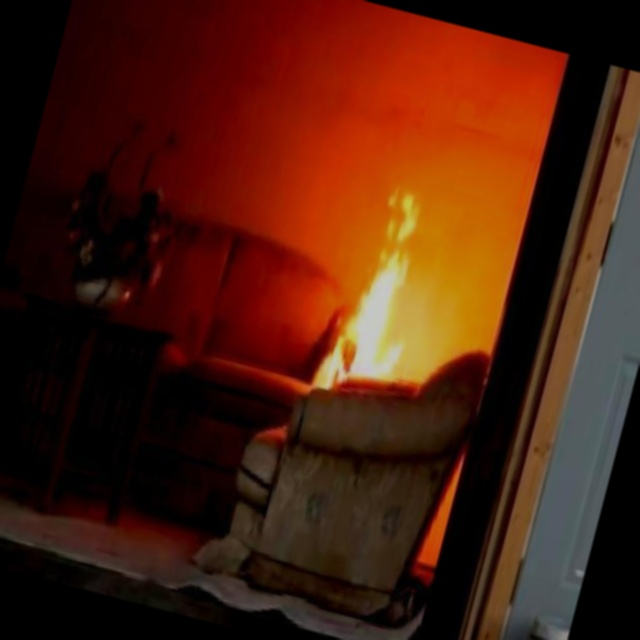fire: (309, 163, 449, 398)
